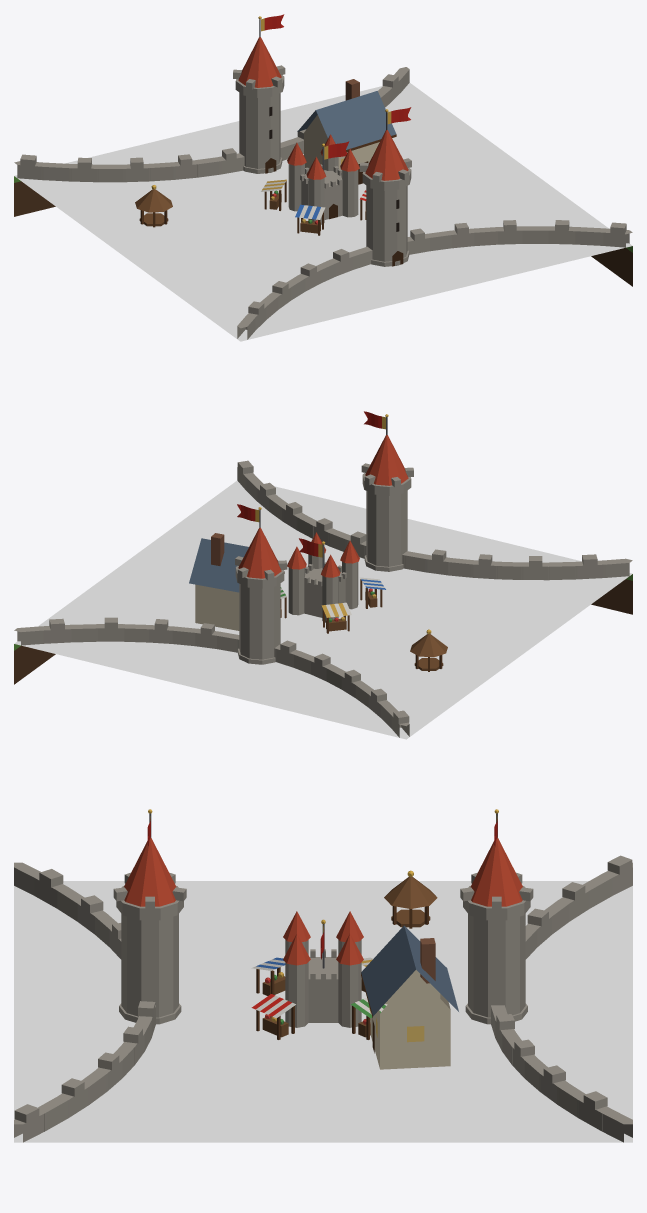
File: band.glb
3 views of the same model, one above another, from view 1: azimuth 30°, elevation 25°; view 2: azimuth 150°, elevation 25°; view 3: azimuth 270°, elevation 25° (orthographic). The views are drawn at different scales.
Parts seen in each view (by area): view 1: band; view 2: band; view 3: band.
Part boxes in pixels (x1,y1,x2,y2): band: [14, 14, 632, 341]; band: [14, 411, 632, 739]; band: [14, 809, 632, 1142].
Size of the model in its own units: 2 by 0.9222 by 2.
